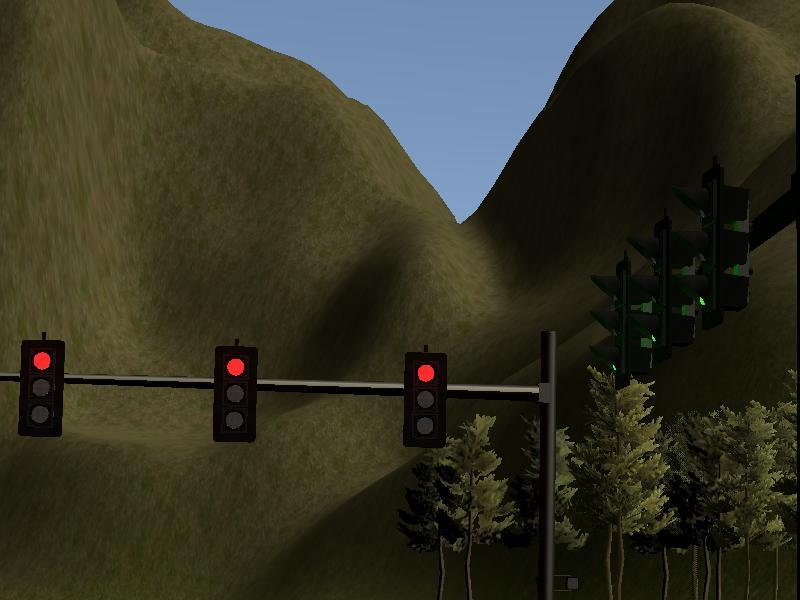Red: (19, 341, 65, 436), (402, 352, 448, 447), (210, 346, 256, 441)
